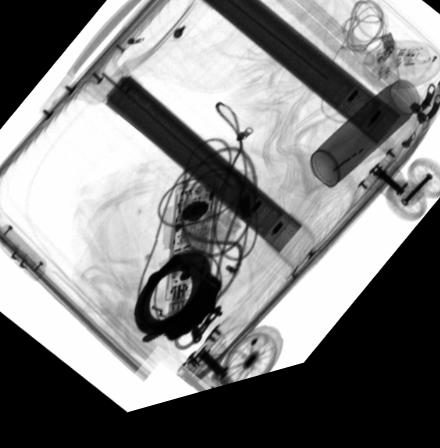HandCuffs: (131, 261, 224, 358)
